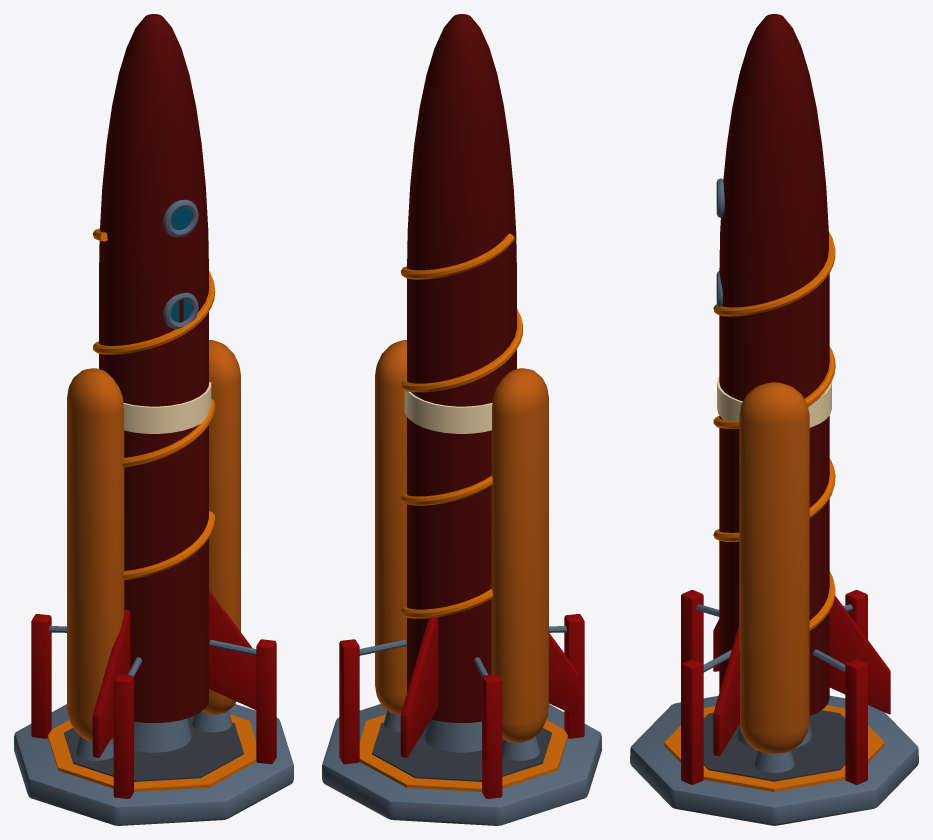
Rendered from HotDogRocket.obj.
3 renders of one model, left to right at view 1: azimuth 30°, elevation 25°; view 2: azimuth 150°, elevation 25°; view 3: azimuth 270°, elevation 25°, orthographic.
Visible parts, largest first — view 1: HotDogRocket; view 2: HotDogRocket; view 3: HotDogRocket.
Part boxes in pixels (bbox=[...]): HotDogRocket: bbox=[14, 14, 293, 825]; HotDogRocket: bbox=[322, 14, 601, 825]; HotDogRocket: bbox=[630, 14, 918, 825].
Size of the model in its own units: 9.94 by 28.6 by 9.95.
